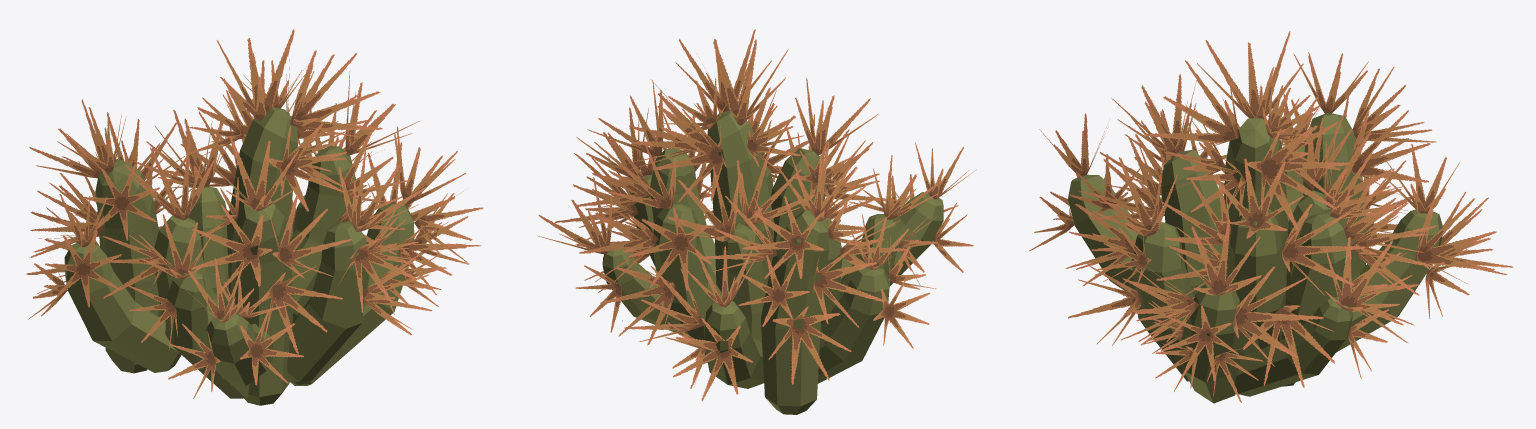
The model's file is cactus_low.glb.
3 views of the same model, side by side, from view 1: azimuth 30°, elevation 25°; view 2: azimuth 150°, elevation 25°; view 3: azimuth 270°, elevation 25° (orthographic). The views are drawn at different scales.
Visible parts, largest first — view 1: SM_Env_Cactus_01_LOD0; view 2: SM_Env_Cactus_01_LOD0; view 3: SM_Env_Cactus_01_LOD0.
Part boxes in pixels (bbox=[...]): SM_Env_Cactus_01_LOD0: bbox=[26, 29, 483, 405]; SM_Env_Cactus_01_LOD0: bbox=[537, 29, 976, 414]; SM_Env_Cactus_01_LOD0: bbox=[1029, 31, 1513, 403].
Size of what is drawn, in the model's own units: 1.33 by 1.04 by 1.29.
1 material, 1 textured.
